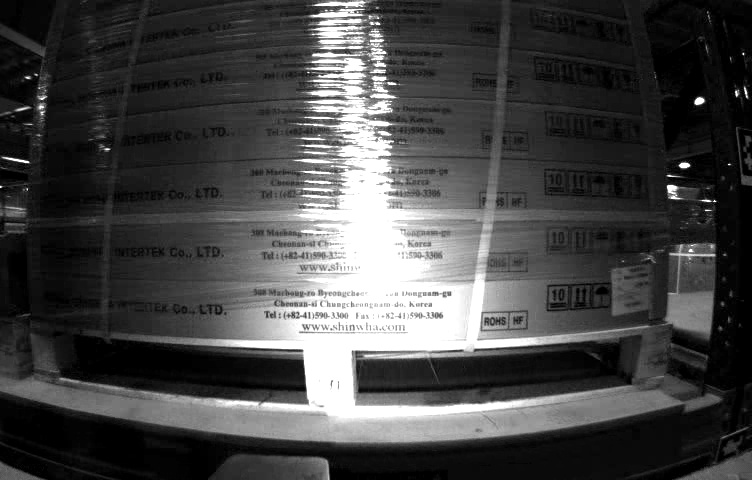True Barcode: (606, 265, 656, 310)
